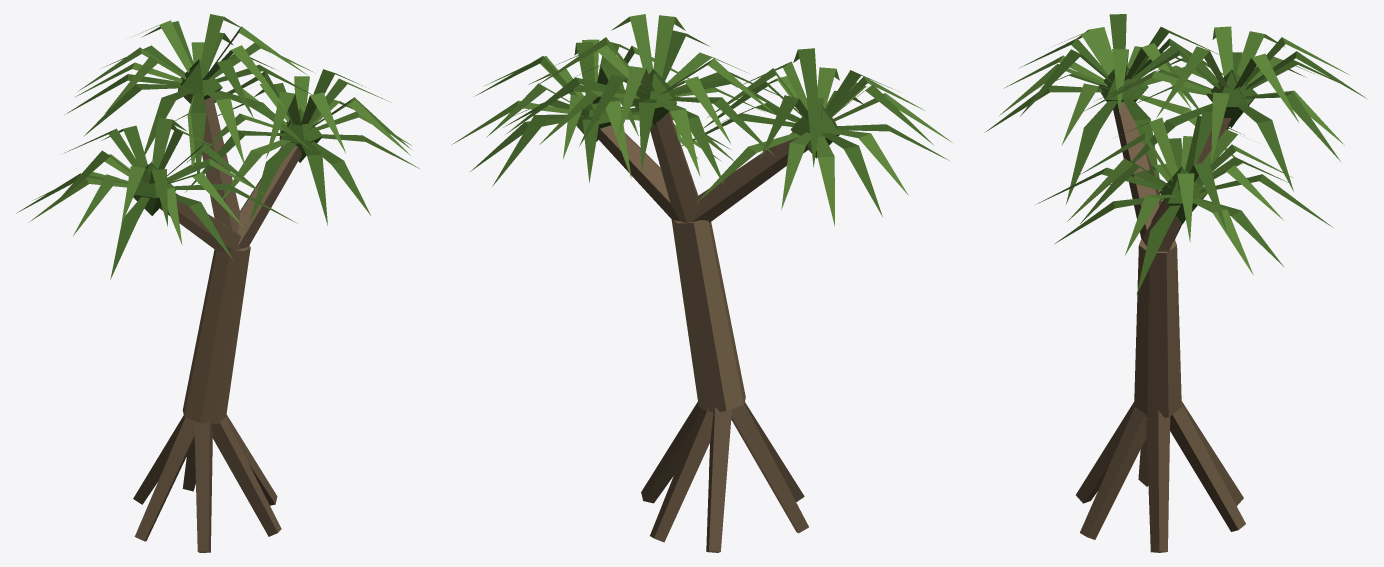
The model's file is pandanus.glb.
The picture shows the model from 3 angles, left to right: view 1: azimuth 30°, elevation 25°; view 2: azimuth 150°, elevation 25°; view 3: azimuth 270°, elevation 25°; orthographic projection. The views are drawn at different scales.
Visible parts, largest first — view 1: pandanus2; view 2: pandanus2; view 3: pandanus2.
Part boxes in pixels (x1=…): pandanus2: x1=16, y1=14, x2=419, y2=552; pandanus2: x1=452, y1=14, x2=952, y2=552; pandanus2: x1=984, y1=14, x2=1366, y2=552.
Bounding box in the file's own units: 3.9 × 4.52 × 3.15.
